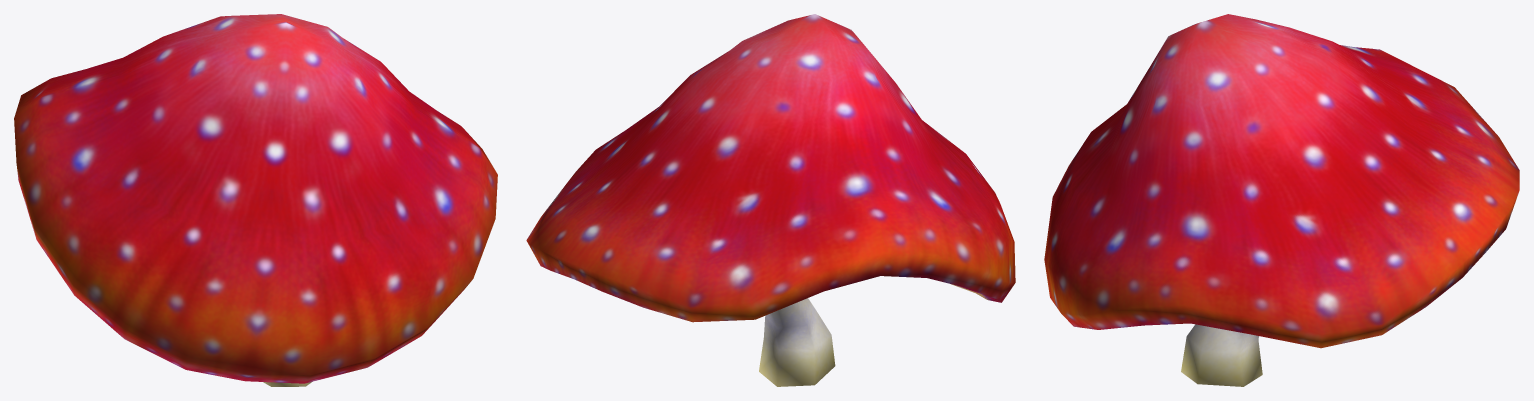
The model's file is ShortRed_DEFAULT.dae.
3 renders of one model, left to right at view 1: azimuth 30°, elevation 25°; view 2: azimuth 150°, elevation 25°; view 3: azimuth 270°, elevation 25°, orthographic. The views are drawn at different scales.
Parts seen in each view (by area): view 1: mesh0; view 2: mesh0; view 3: mesh0.
Part boxes in pixels (<box>): mesh0: <box>14,14,497,386</box>; mesh0: <box>526,14,1015,386</box>; mesh0: <box>1044,14,1519,386</box>.
Bounding box in the file's own units: 1.87 × 1.52 × 1.83.
